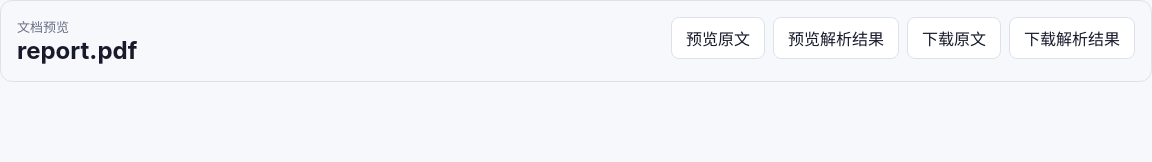
document preview resource safety › keeps the newer parsed preview when an older source request finishes later
Click the button named "preview-source". click: click(718, 38)
box: x1=671 y1=17 x2=765 y2=59
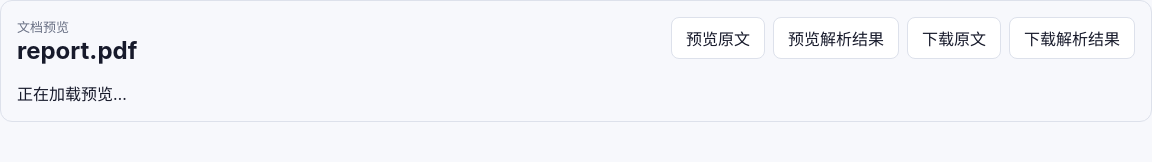
Click the button named "preview-parsed". click: click(836, 38)
box: x1=773 y1=17 x2=899 y2=59
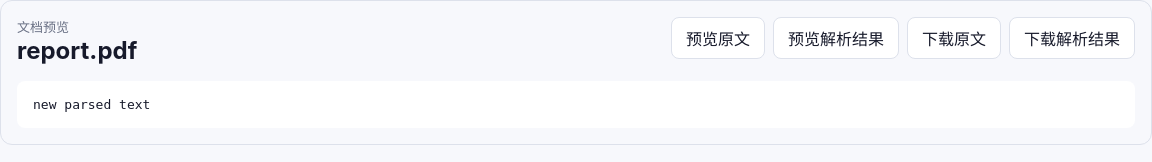
Now the text "new parsed text" is shown, box x1=17 y1=81 x2=1135 y2=128
